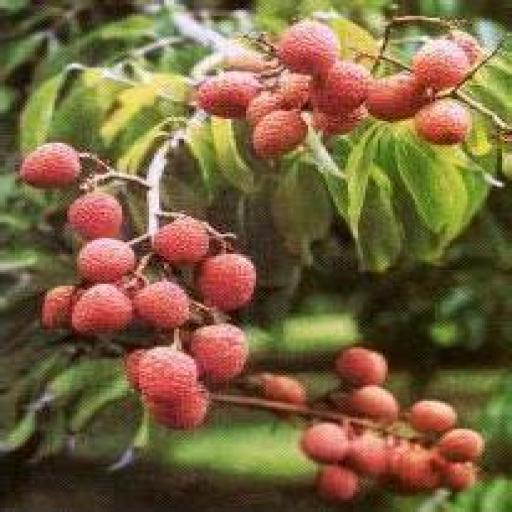lychee: (275, 20, 337, 75), (188, 324, 247, 381), (196, 255, 255, 311), (136, 348, 197, 402), (310, 62, 371, 115), (365, 72, 428, 121), (412, 38, 468, 91), (196, 72, 259, 119), (72, 284, 130, 335), (134, 280, 190, 329), (144, 385, 207, 428), (251, 110, 307, 158), (19, 143, 78, 188), (151, 217, 207, 263), (77, 239, 135, 283), (67, 193, 120, 240), (415, 100, 471, 144), (335, 348, 386, 386), (395, 447, 438, 492), (347, 385, 399, 422), (300, 423, 349, 462), (345, 433, 386, 478), (39, 286, 76, 329), (437, 429, 483, 462), (315, 465, 356, 502), (310, 108, 366, 134), (410, 401, 456, 432), (260, 374, 304, 404), (246, 92, 282, 127), (275, 74, 309, 109), (449, 30, 483, 65), (442, 463, 476, 492), (121, 350, 145, 390)
